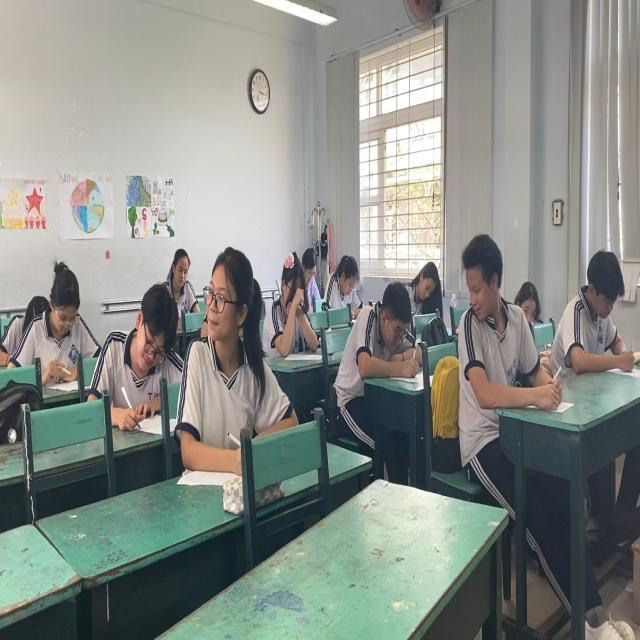cheating: (457, 229, 545, 413), (189, 250, 267, 443)
not_cheating: (557, 246, 636, 374), (18, 253, 96, 360), (107, 284, 176, 398), (345, 281, 417, 384), (265, 256, 317, 356), (162, 239, 199, 319), (326, 243, 358, 315), (407, 250, 444, 305)
